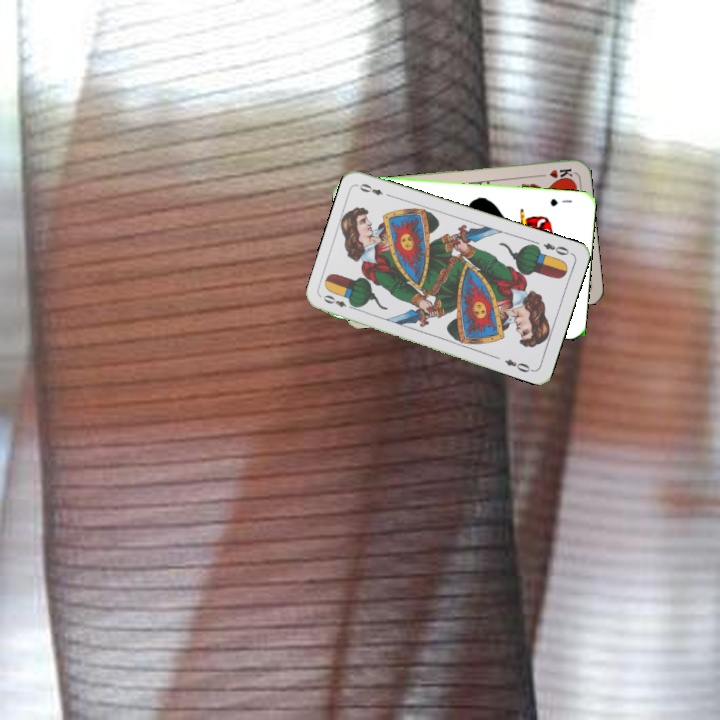EO: (319, 291, 358, 312), (539, 239, 574, 258)
GU: (546, 194, 574, 209)
HK: (534, 164, 574, 182)
